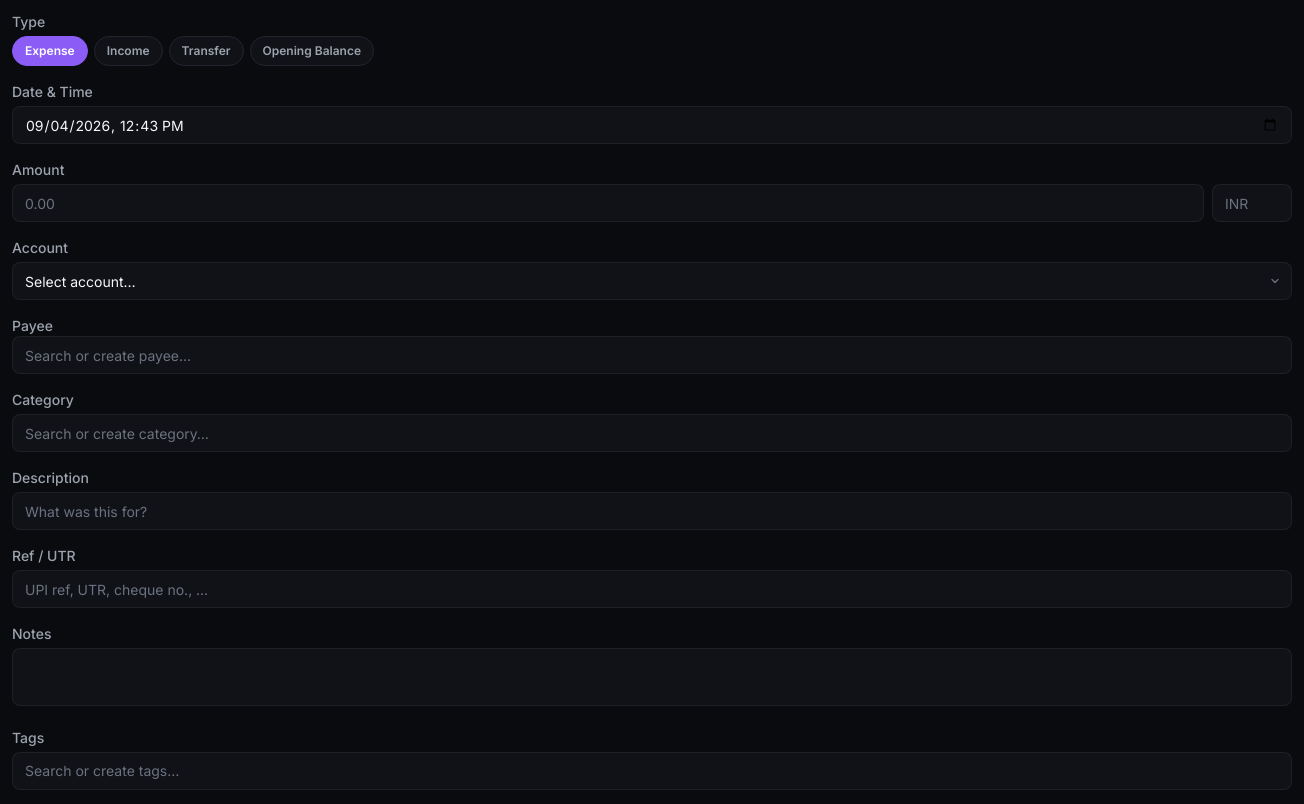
Test: TransactionForm component › validates destination account for transfers
Select "HDFC Savings (INR)" in the dropdown labelled "Account" at coordinates (652, 281), box [12,262,1292,300]
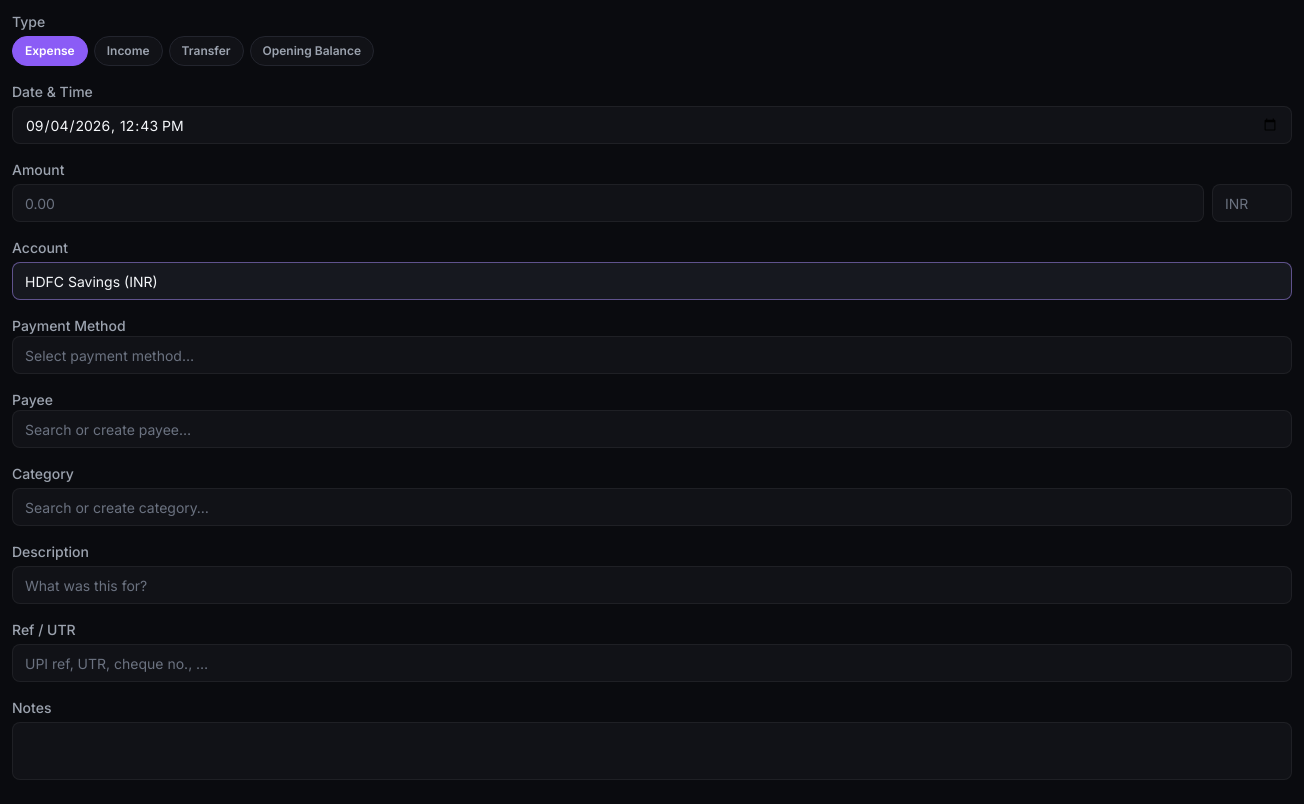
Type "100" into the number field labelled "Amount" at coordinates (608, 203), box [12,184,1204,222]
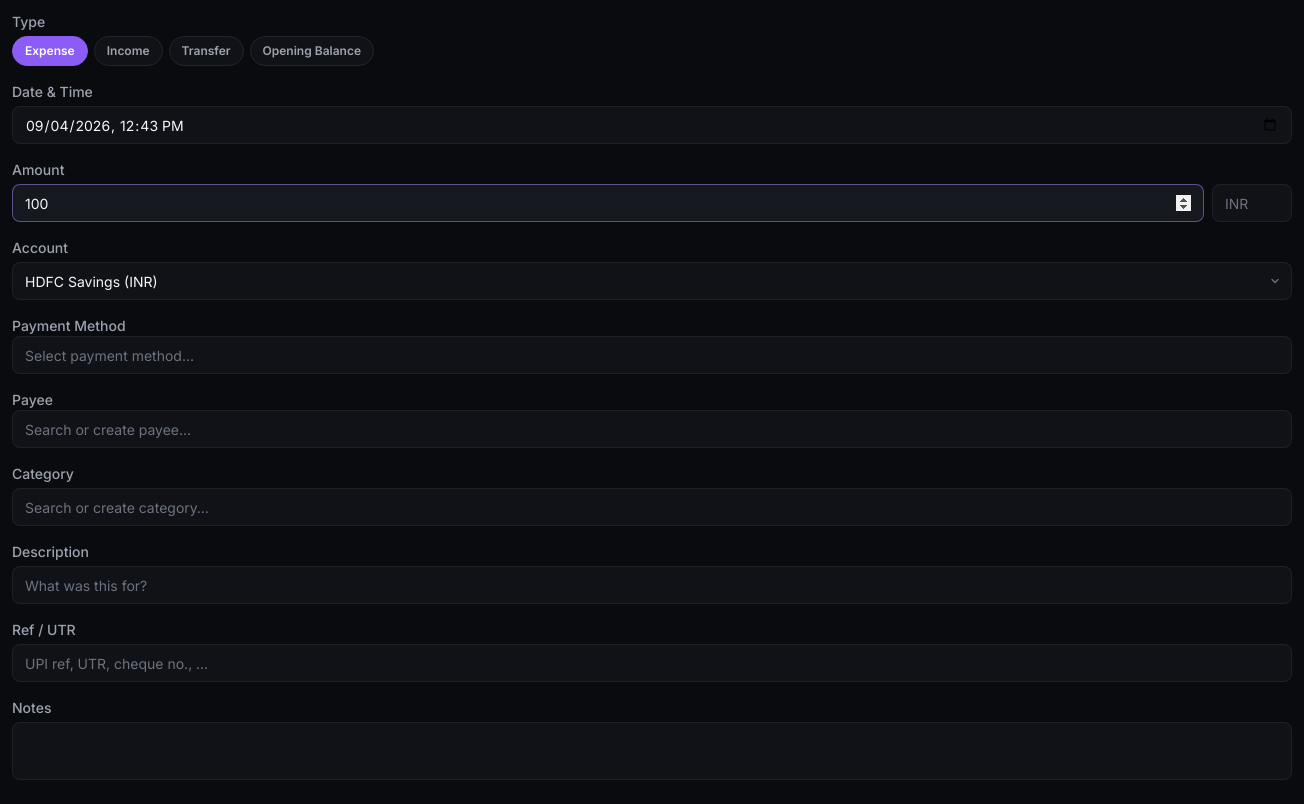
Click the button "Transfer" at coordinates (206, 51), box [169,36,244,66]
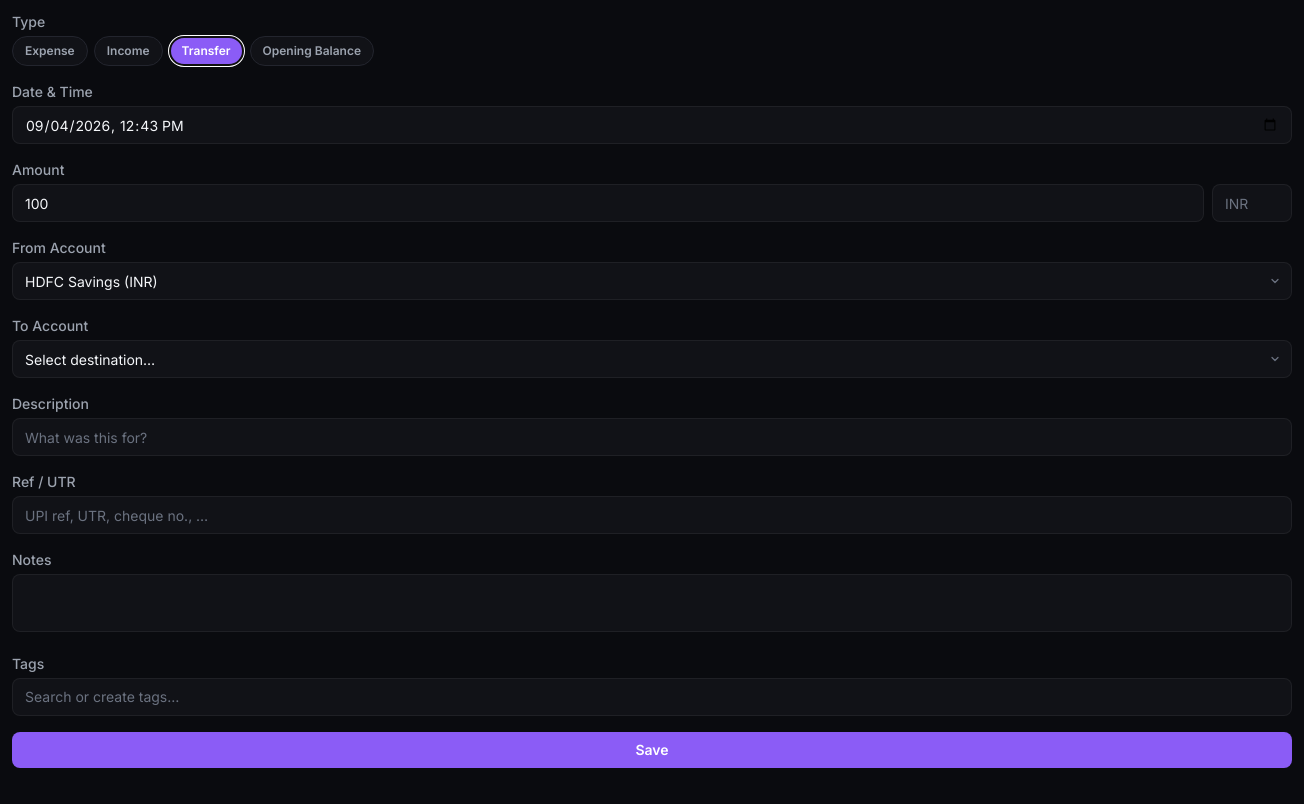
Click the button "Save" at coordinates (652, 750), box [12,732,1292,768]
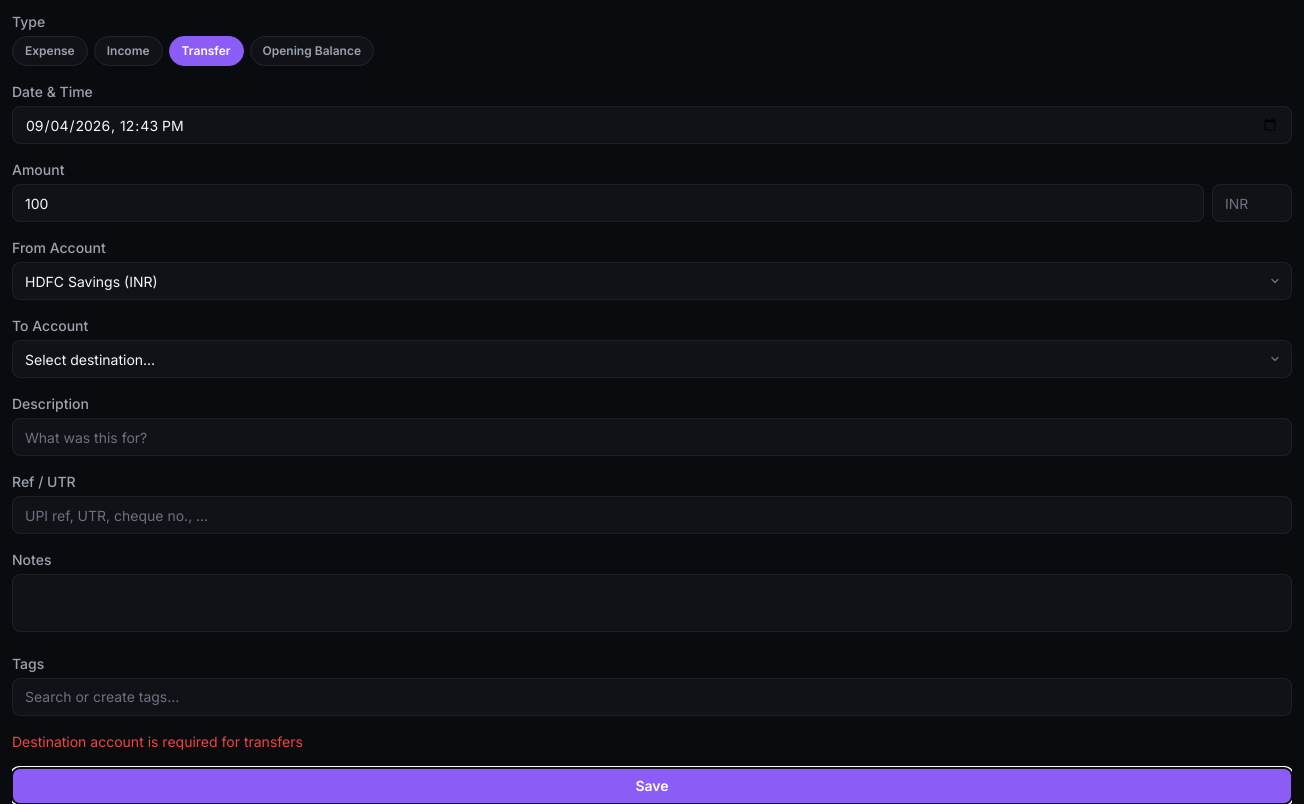
Result: the message shows "Destination account is required" at [12,733,303,750]
